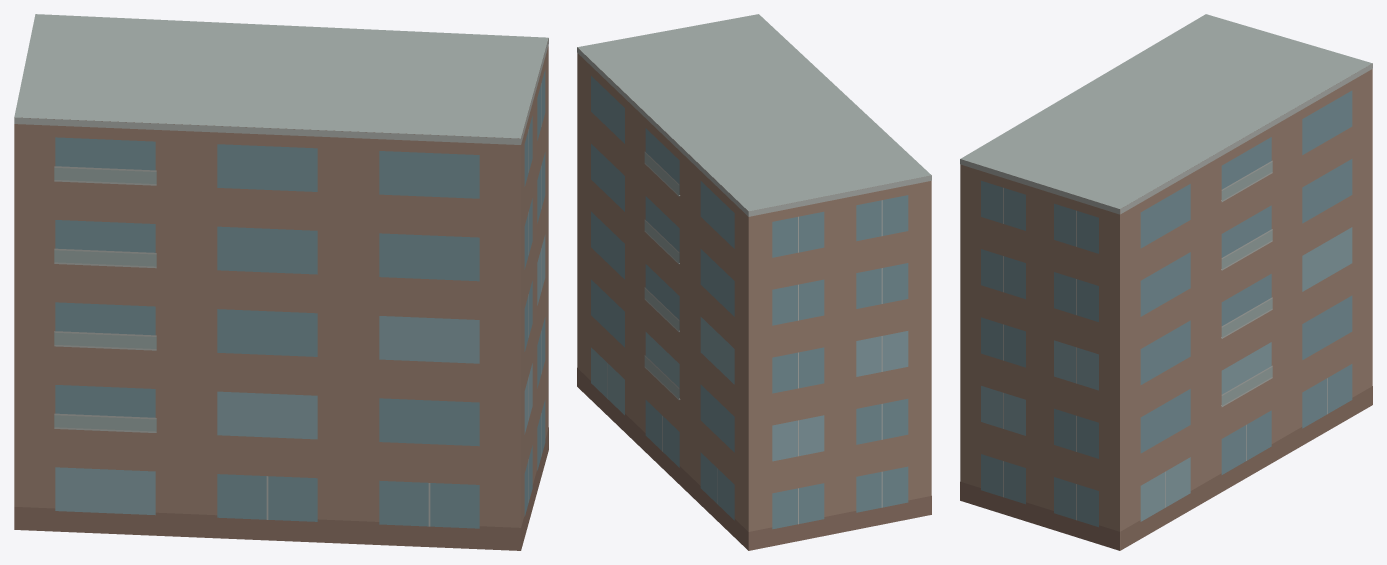
Rendered from survey-upis-32641677.glb.
3 renders of one model, left to right at view 1: azimuth 30°, elevation 25°; view 2: azimuth 150°, elevation 25°; view 3: azimuth 270°, elevation 25°, orthographic. The views are drawn at different scales.
Parts seen in each view (by area): view 1: survey-upis-32641677.tmp; view 2: survey-upis-32641677.tmp; view 3: survey-upis-32641677.tmp.
Boxes of the visible parts, x1=… form: survey-upis-32641677.tmp: x1=14, y1=14, x2=548, y2=550; survey-upis-32641677.tmp: x1=577, y1=14, x2=931, y2=550; survey-upis-32641677.tmp: x1=960, y1=14, x2=1372, y2=550.
Size of the model in its own units: 18.75 by 15.3 by 16.75.
